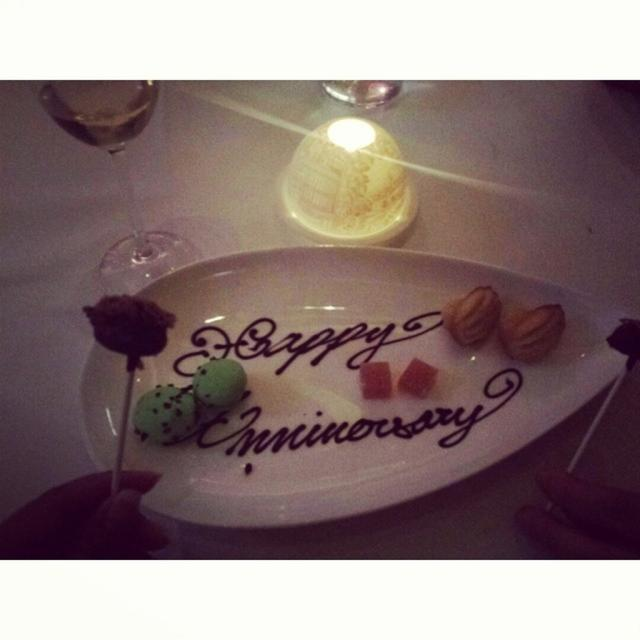ceramic plate: (25, 218, 640, 507)
